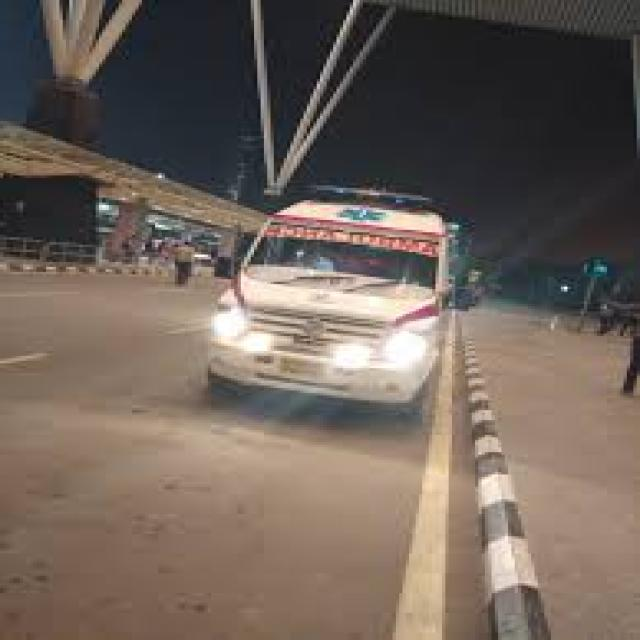ambulance: (208, 185, 449, 410), (238, 188, 445, 418)
